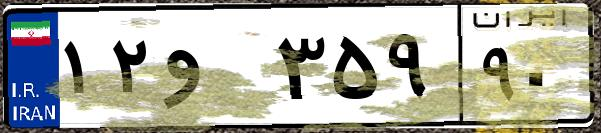0: (525, 38, 570, 115)
1: (57, 26, 110, 100)
2: (110, 28, 158, 98)
3: (270, 28, 330, 110)
5: (330, 28, 385, 110)
9: (385, 28, 445, 110), (475, 38, 525, 113)
و: (158, 20, 270, 120)
